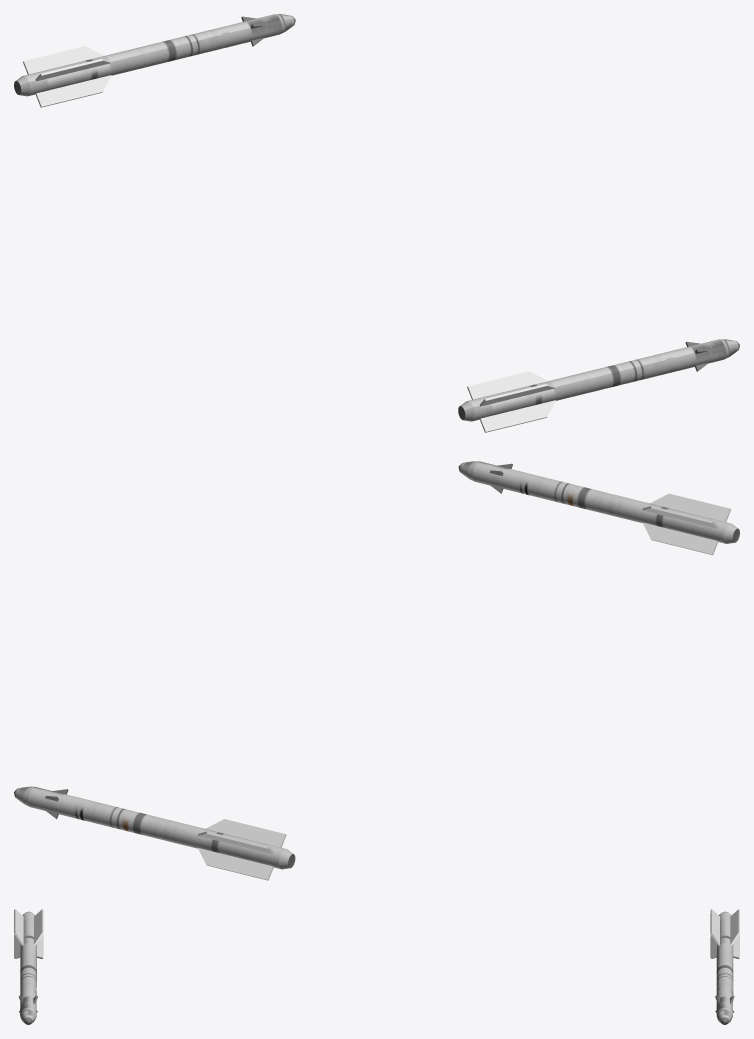
The picture shows the model from 3 angles, top to bottom: view 1: azimuth 30°, elevation 25°; view 2: azimuth 150°, elevation 25°; view 3: azimuth 270°, elevation 25°; orthographic projection. The views are drawn at different scales.
Visible parts, largest first — view 1: 円柱.020, 円柱.021; view 2: 円柱.021, 円柱.020; view 3: 円柱.021, 円柱.020.
Part boxes in pixels (x1,y1,x2,y2): 円柱.020: (458,339,739,432); 円柱.021: (14,14,295,107); 円柱.021: (14,786,295,880); 円柱.020: (458,461,739,555); 円柱.021: (710,909,739,1024); 円柱.020: (14,909,43,1024).
Size of the model in its own units: 3.52 by 0.4148 by 10.17.
2 materials, 1 textured.
